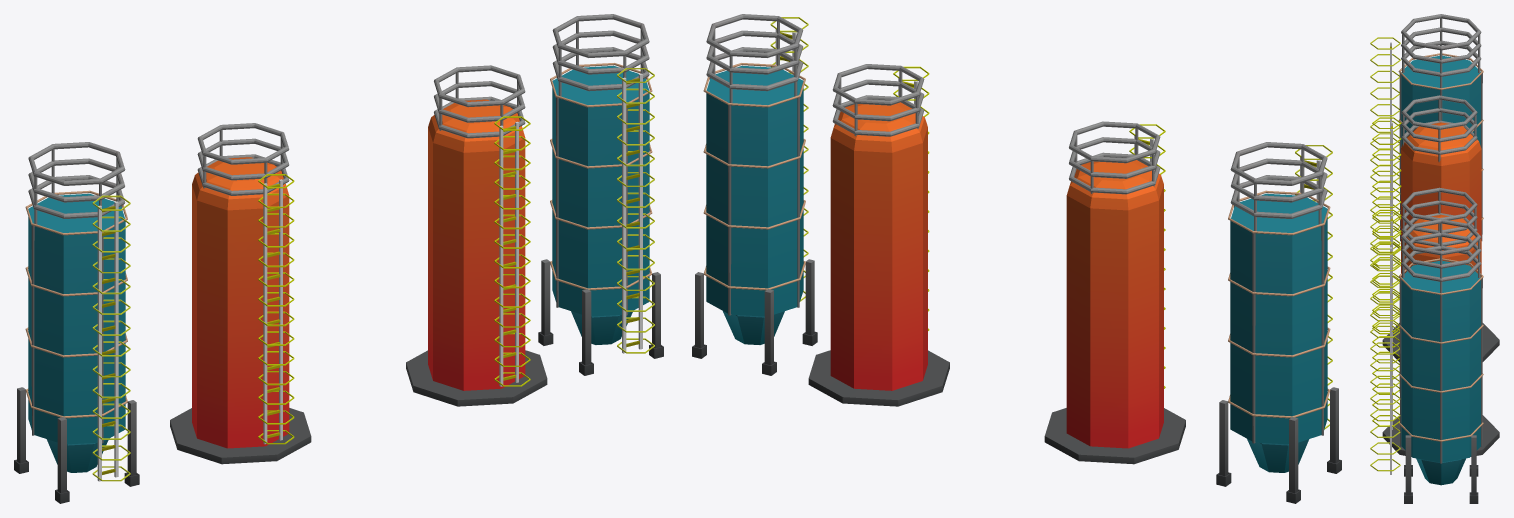
Rendered from silos.glb.
3 views of the same model, side by side, from view 1: azimuth 30°, elevation 25°; view 2: azimuth 150°, elevation 25°; view 3: azimuth 270°, elevation 25° (orthographic). The views are drawn at different scales.
Parts seen in each view (by area): view 1: Cylinder.005, Cylinder.006, Cylinder.003, Cylinder, Circle.001, Circle.003, Cube.002, Cube.001, Circle.002, Cube.004, Circle.004, Circle (+1 smaller); view 2: Cylinder.005, Cylinder.006, Cylinder.003, Cylinder, Circle.001, Circle.003, Cube.002, Circle, Cylinder.001; view 3: Cylinder.006, Cylinder.003, Cylinder.005, Cylinder, Circle.001, Circle.003, Circle.002, Circle.004, Cylinder.001, Circle, Cylinder.002, Cylinder.004 (+2 smaller).
Boxes of the visible parts, box(x1,y1,x2,y2) form: Cylinder.005: box(406, 65, 547, 406); Cylinder.006: box(538, 14, 663, 375); Cylinder.003: box(170, 157, 311, 464); Cylinder: box(28, 193, 125, 472); Circle.001: box(28, 142, 125, 218); Circle.003: box(197, 123, 289, 195); Cube.002: box(14, 387, 139, 503); Cube.001: box(97, 201, 118, 481); Circle.002: box(92, 195, 130, 481); Cube.004: box(263, 179, 282, 444); Circle.004: box(258, 174, 294, 444); Circle: box(25, 190, 127, 418); Cylinder.005: box(808, 64, 949, 406); Cylinder.006: box(692, 14, 817, 375); Cylinder.003: box(1044, 160, 1185, 464); Cylinder: box(1230, 193, 1327, 472); Circle.001: box(1230, 142, 1327, 218); Circle.003: box(1069, 121, 1160, 194); Cube.002: box(1216, 387, 1341, 503); Circle: box(1228, 190, 1330, 418); Cylinder.001: box(1234, 205, 1324, 443); Cylinder.006: box(1370, 219, 1483, 503); Cylinder.003: box(1382, 122, 1499, 361); Cylinder.005: box(1372, 187, 1499, 456); Cylinder: box(1401, 55, 1480, 146); Circle.001: box(1401, 14, 1481, 76); Circle.003: box(1401, 95, 1477, 154); Circle.002: box(1370, 37, 1400, 266); Circle.004: box(1372, 117, 1401, 334); Cylinder.001: box(1399, 73, 1482, 241); Circle: box(1398, 53, 1483, 220); Cylinder.002: box(1402, 18, 1480, 88); Cylinder.004: box(1402, 99, 1476, 162).
Bounding box in the file's own units: 44.78 × 21.93 × 10.18.
1 material, 1 textured.
